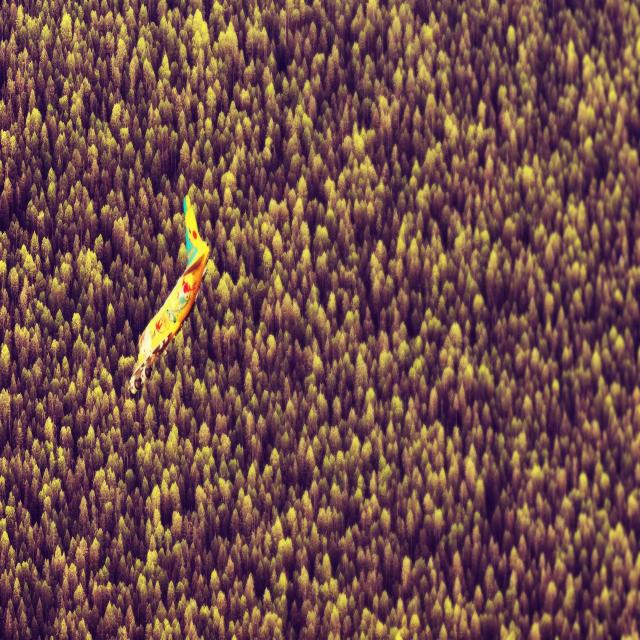airplane: (128, 193, 210, 396)
